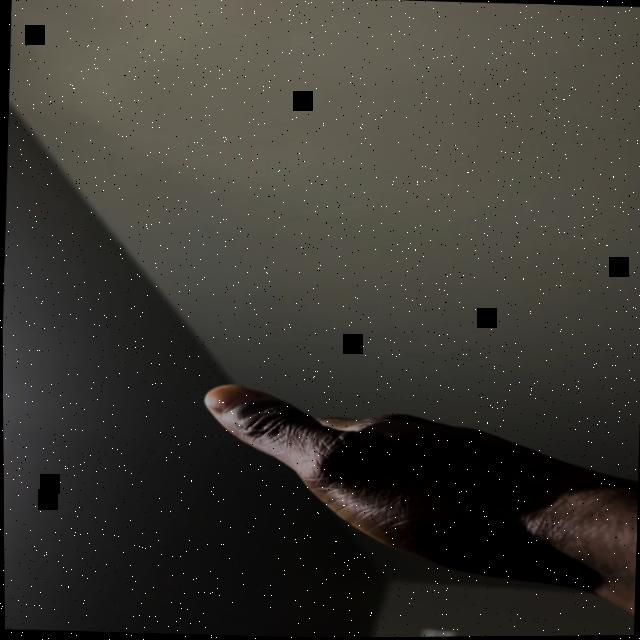Paper: (196, 377, 627, 601)
